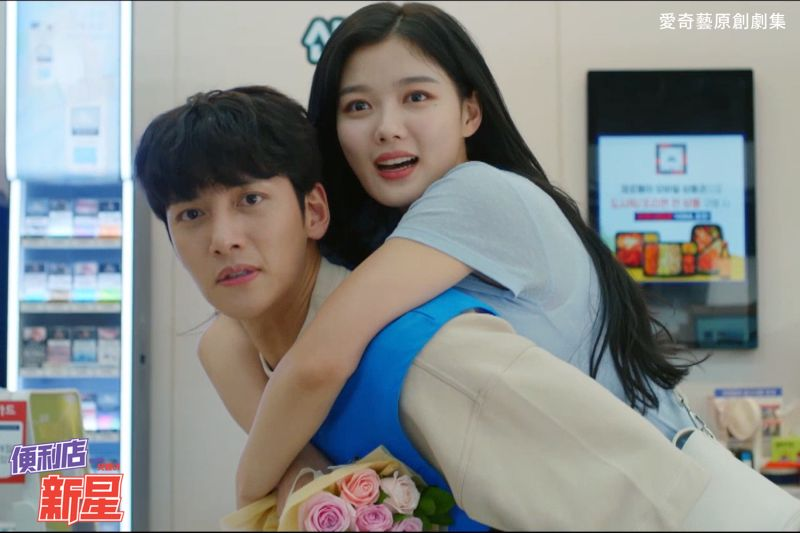people: (146, 97, 376, 533), (316, 2, 572, 289)
